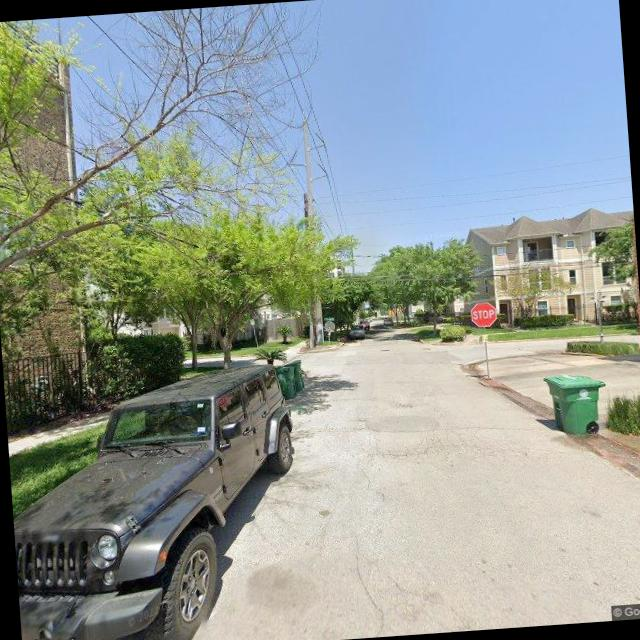crack: (378, 414, 544, 473)
pothole: (340, 520, 389, 638)
